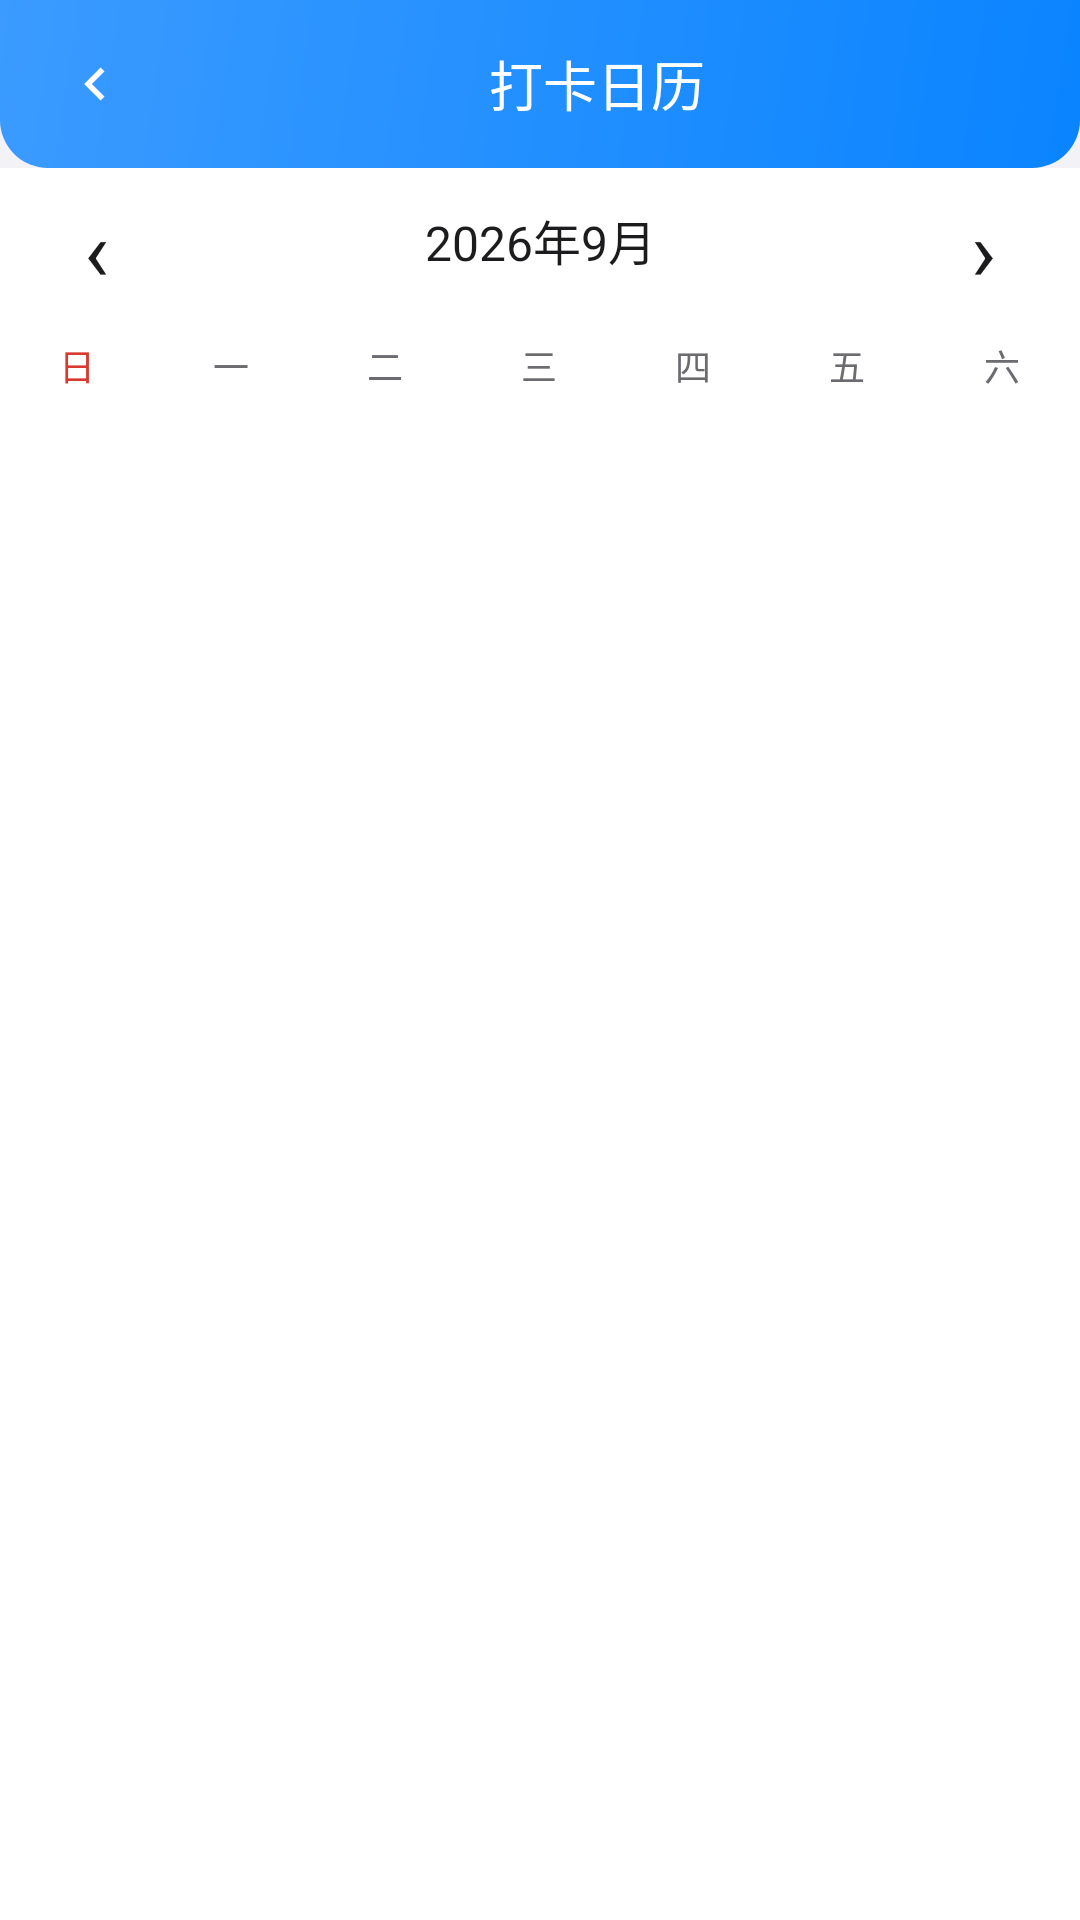

Icon click points for this 1080w x 1920h phone screenshot, format point (x, y):
返回: point (94, 84)
